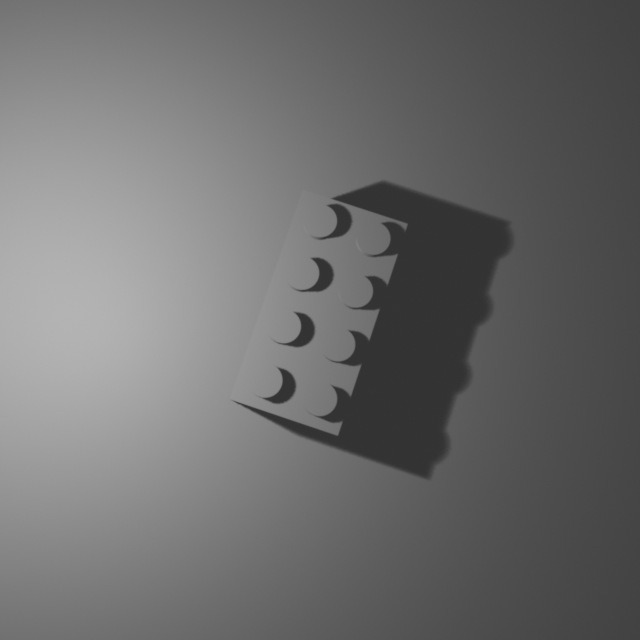lego_2x4: (228, 186, 409, 437)
